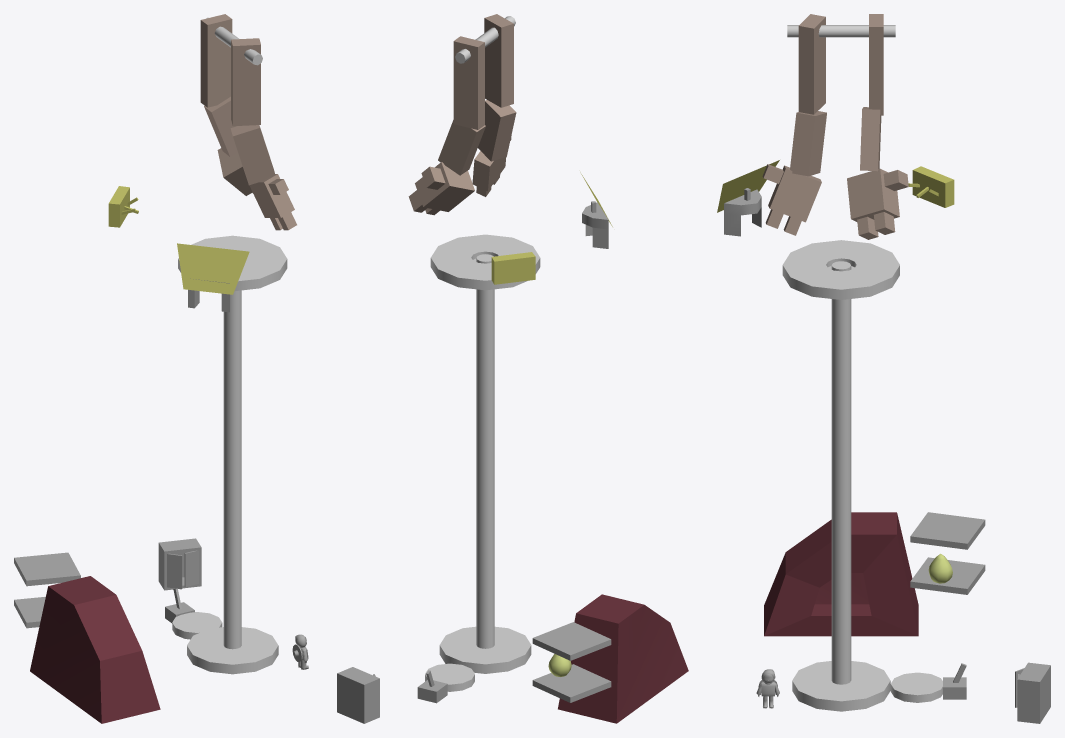
Rendered from Taller_Greda_mecanicos.fbx.
3 renders of one model, left to right at view 1: azimuth 30°, elevation 25°; view 2: azimuth 150°, elevation 25°; view 3: azimuth 270°, elevation 25°, orthographic. The views are drawn at different scales.
Parts seen in each view (by area): view 1: horno, manos, viga, disco1, puzle_estrellas, disco2, repisas, mueble_chanchito, engranaje, tablero_palanca_andamio, soportemanos; view 2: manos, horno, viga, disco2, repisas, disco1, mueble_chanchito, tablero_palanca_andamio, puzle_estrellas, engranaje, palanca1; view 3: horno, manos, viga, disco2, disco1, repisas, puzle_estrellas, mueble_chanchito, engranaje, tablero_palanca_andamio, soportemanos, palanca1 (+2 smaller).
Boxes of the visible parts, bbox=[...] form: horno: bbox=[30, 576, 160, 723]; manos: bbox=[200, 14, 296, 230]; viga: bbox=[223, 290, 241, 649]; disco1: bbox=[187, 627, 278, 674]; puzle_estrellas: bbox=[177, 243, 249, 312]; disco2: bbox=[178, 235, 287, 291]; repisas: bbox=[14, 552, 80, 628]; mueble_chanchito: bbox=[158, 538, 201, 590]; engranaje: bbox=[172, 612, 222, 639]; tablero_palanca_andamio: bbox=[108, 186, 138, 227]; soportemanos: bbox=[206, 17, 262, 65]; manos: bbox=[408, 14, 516, 215]; horno: bbox=[558, 594, 688, 723]; viga: bbox=[476, 254, 494, 648]; disco2: bbox=[430, 234, 540, 290]; repisas: bbox=[532, 622, 611, 702]; disco1: bbox=[439, 626, 531, 673]; mueble_chanchito: bbox=[337, 667, 379, 723]; tablero_palanca_andamio: bbox=[491, 252, 535, 284]; puzle_estrellas: bbox=[580, 172, 612, 248]; engranaje: bbox=[425, 663, 474, 691]; palanca1: bbox=[417, 670, 447, 703]; horno: bbox=[764, 512, 918, 636]; manos: bbox=[762, 14, 908, 239]; viga: bbox=[831, 261, 851, 684]; disco2: bbox=[782, 240, 899, 299]; disco1: bbox=[792, 661, 890, 711]; repisas: bbox=[910, 512, 985, 594]; puzle_estrellas: bbox=[717, 160, 779, 236]; mueble_chanchito: bbox=[1015, 662, 1050, 723]; engranaje: bbox=[890, 672, 942, 702]; tablero_palanca_andamio: bbox=[908, 166, 954, 207]; soportemanos: bbox=[787, 25, 895, 37]; palanca1: bbox=[943, 663, 966, 699].
Bounding box in the file's own units: 9.96 × 12.01 × 26.76.
